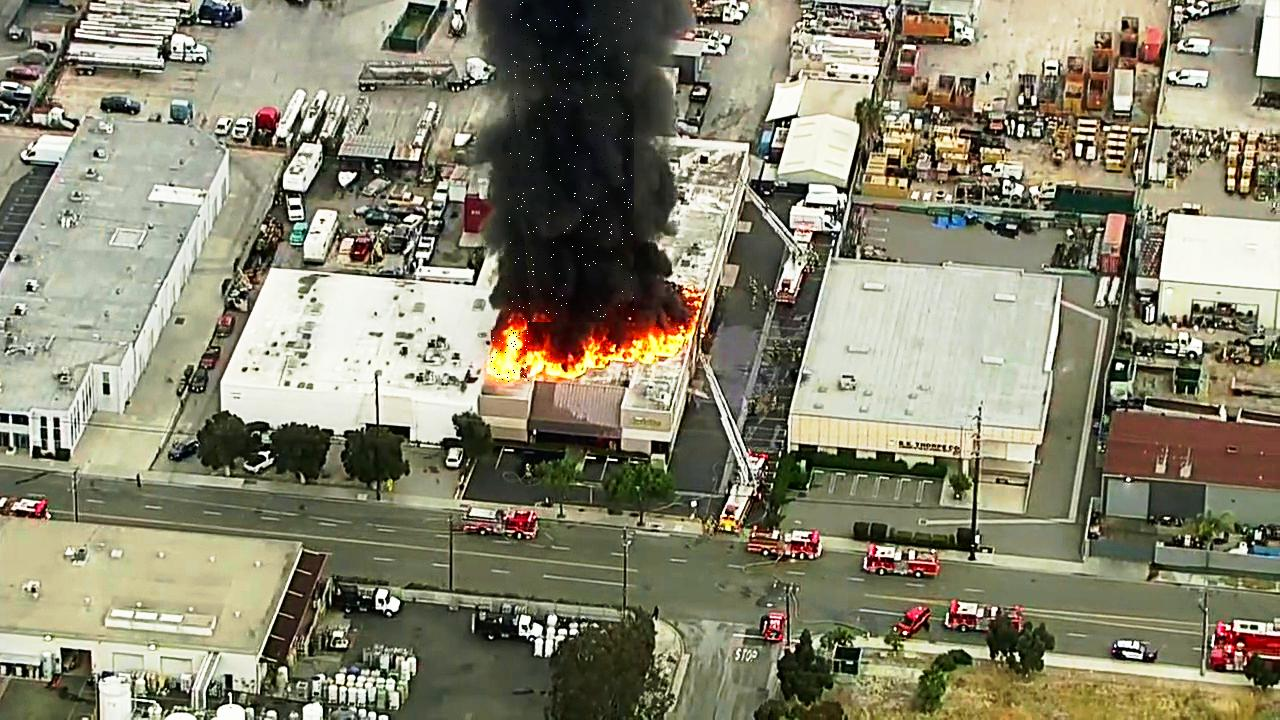fire: (492, 330, 530, 384)
smoke: (507, 0, 634, 322)
